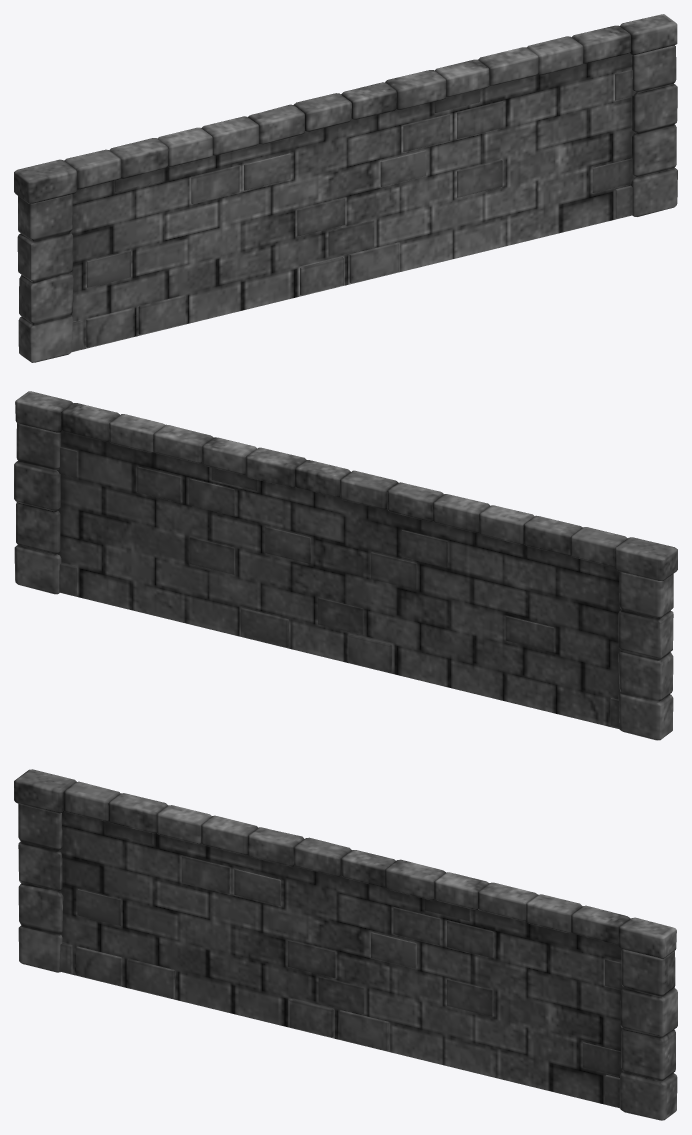
File: SM_Fence_Stone_560989.glb
3 renders of one model, top to bottom at view 1: azimuth 30°, elevation 25°; view 2: azimuth 150°, elevation 25°; view 3: azimuth 330°, elevation 25°, orthographic.
Size of the model in its own units: 4.06 by 1.11 by 0.185.
1 material, 1 textured.
